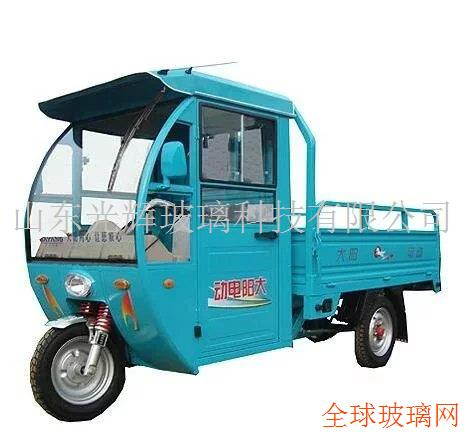tricycle: (23, 52, 446, 404)
